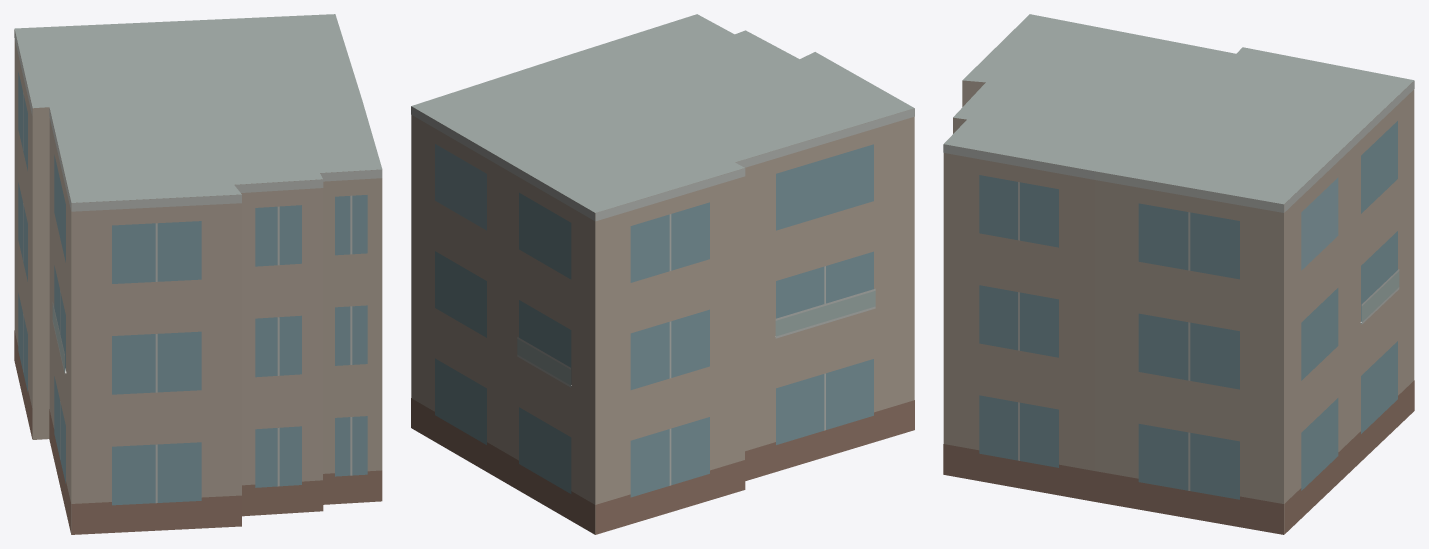
File: survey-upis-32969359.glb
The picture shows the model from 3 angles, left to right: view 1: azimuth 30°, elevation 25°; view 2: azimuth 150°, elevation 25°; view 3: azimuth 270°, elevation 25°; orthographic projection. The views are drawn at different scales.
Parts seen in each view (by area): view 1: survey-upis-32969359.tmp; view 2: survey-upis-32969359.tmp; view 3: survey-upis-32969359.tmp.
Boxes of the visible parts, x1=… form: survey-upis-32969359.tmp: x1=14, y1=14, x2=382, y2=534; survey-upis-32969359.tmp: x1=411, y1=14, x2=914, y2=534; survey-upis-32969359.tmp: x1=943, y1=14, x2=1414, y2=534.
Size of the model in its own units: 11.49 by 9.3 by 12.02.
